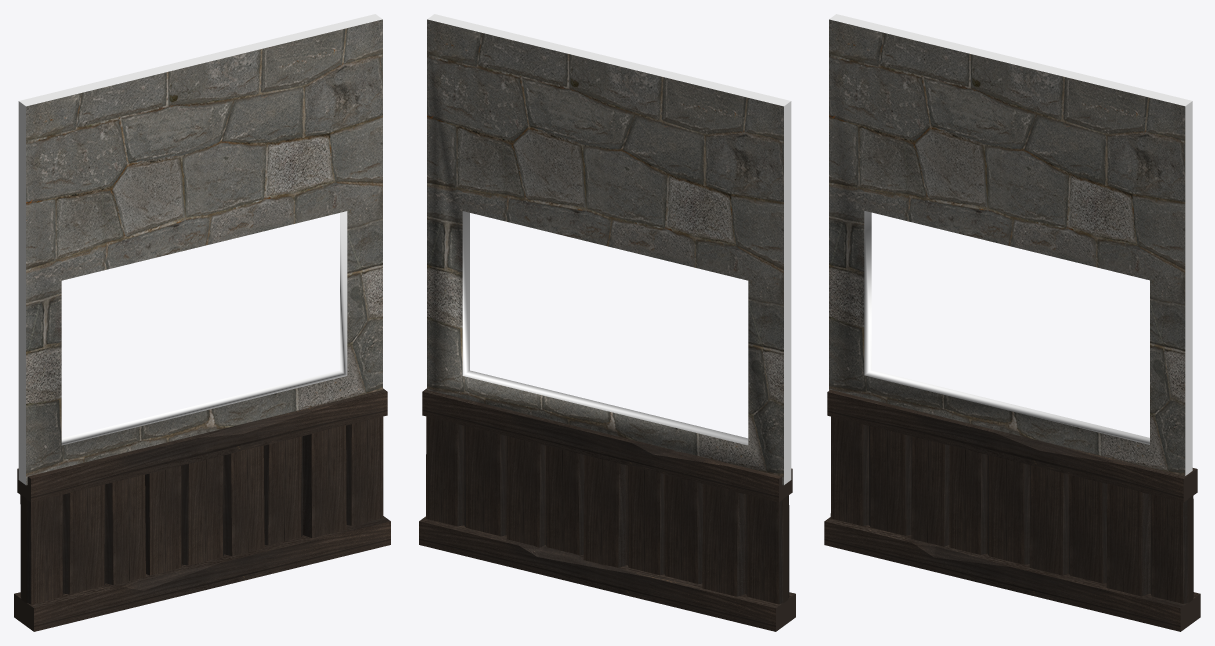
File: wall2.fbx
3 views of the same model, side by side, from view 1: azimuth 30°, elevation 25°; view 2: azimuth 150°, elevation 25°; view 3: azimuth 330°, elevation 25° (orthographic).
Visible parts, largest first — view 1: SM_Bld_House_Wall_02.003, SM_Bld_House_Wall_02.002; view 2: SM_Bld_House_Wall_02.003, SM_Bld_House_Wall_02.002; view 3: SM_Bld_House_Wall_02.003, SM_Bld_House_Wall_02.002.
Boxes of the visible parts, x1=… form: SM_Bld_House_Wall_02.003: x1=18, y1=14, x2=382, y2=485; SM_Bld_House_Wall_02.002: x1=14, y1=388, x2=390, y2=631; SM_Bld_House_Wall_02.003: x1=427, y1=14, x2=791, y2=485; SM_Bld_House_Wall_02.002: x1=419, y1=388, x2=795, y2=631; SM_Bld_House_Wall_02.003: x1=829, y1=14, x2=1192, y2=475; SM_Bld_House_Wall_02.002: x1=824, y1=390, x2=1200, y2=631.
Size of the model in its own units: 251 by 349 by 24.2.
